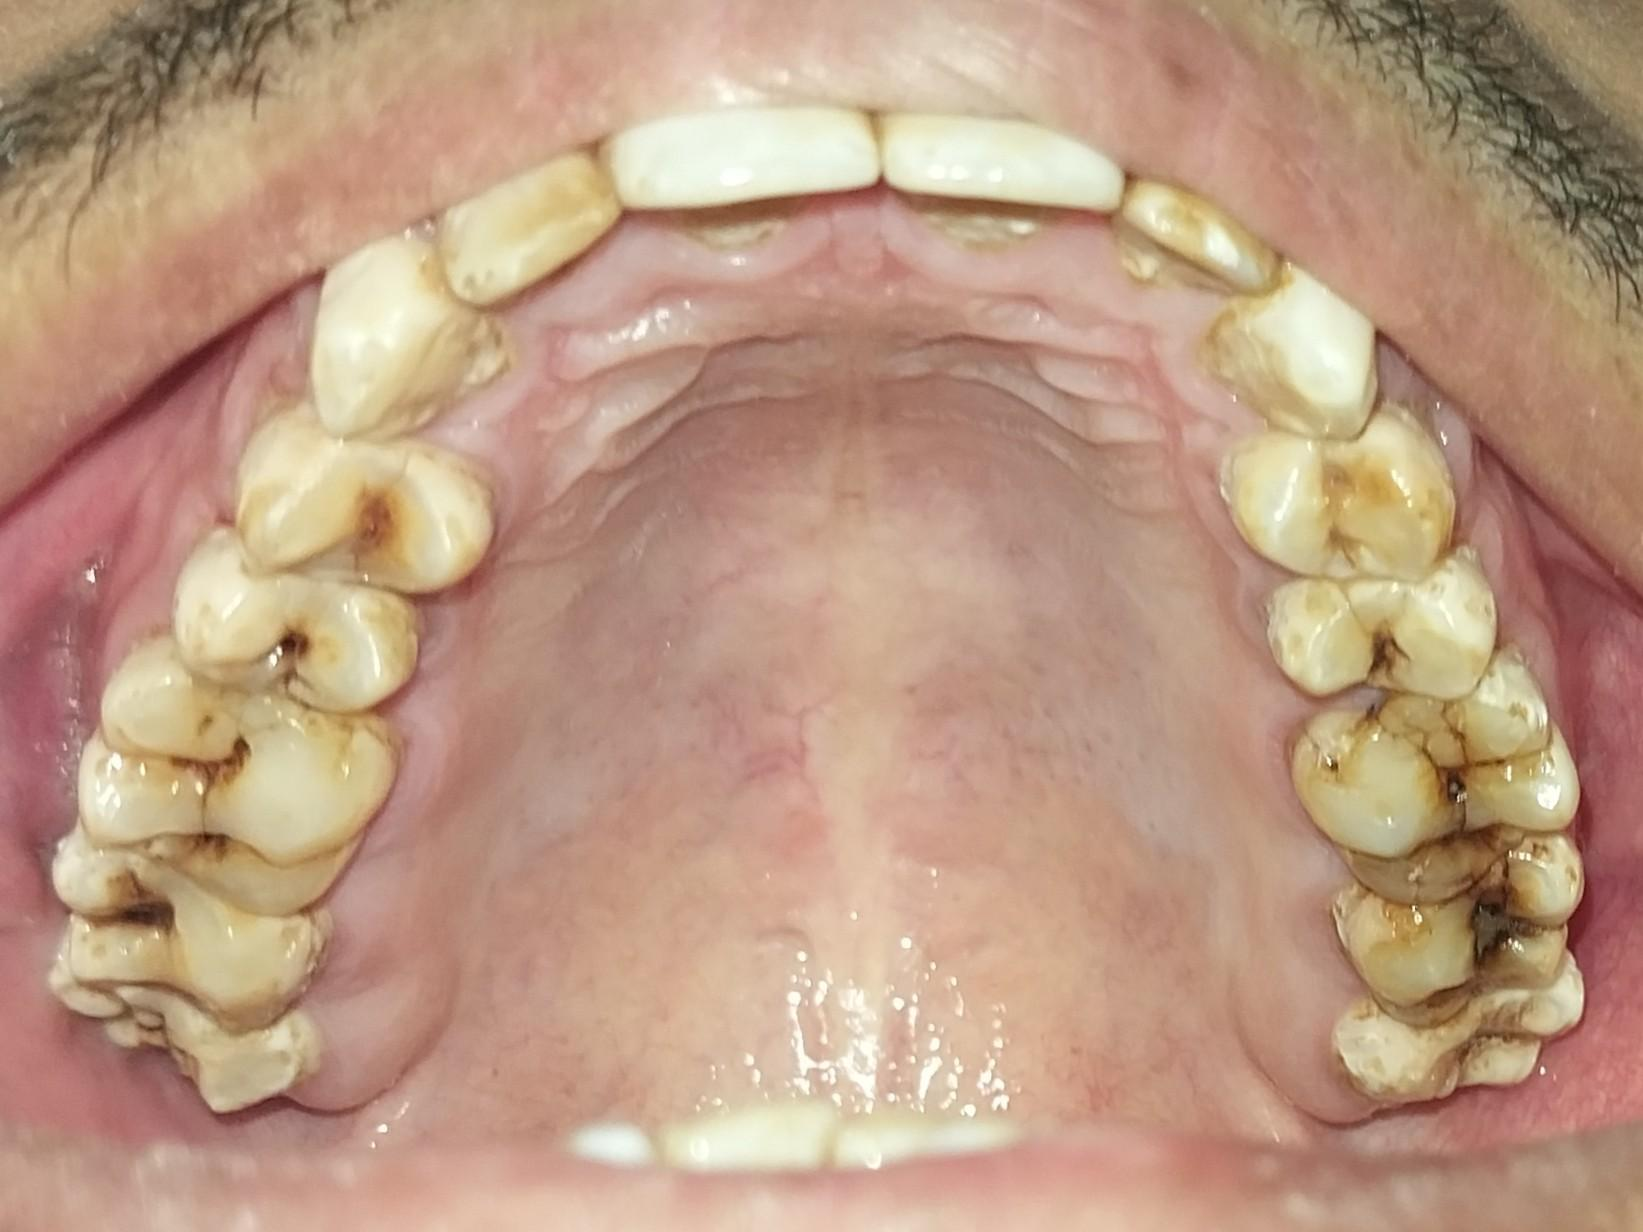D: (79, 649, 398, 915), (1294, 680, 1579, 901), (52, 830, 329, 1035), (231, 410, 500, 597), (170, 525, 424, 715), (1335, 842, 1582, 1024), (1270, 575, 1504, 700)
